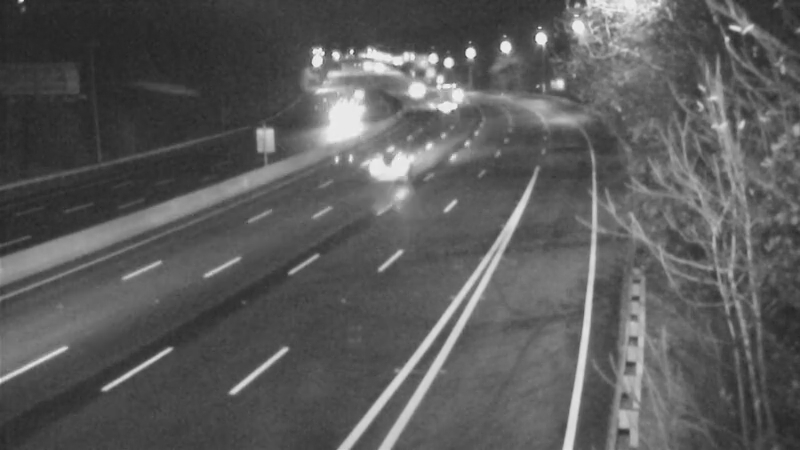vehicle: (346, 125, 426, 205), (378, 63, 428, 113), (415, 68, 465, 118), (325, 95, 375, 145)
